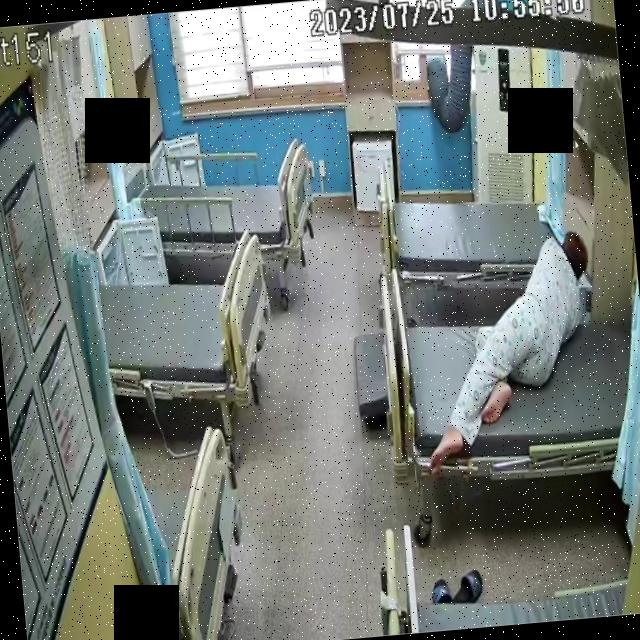bed: (397, 299, 640, 493), (95, 227, 282, 418), (120, 134, 315, 271), (377, 162, 568, 298)
danger: (406, 226, 604, 478)
patient: (408, 227, 604, 478)
